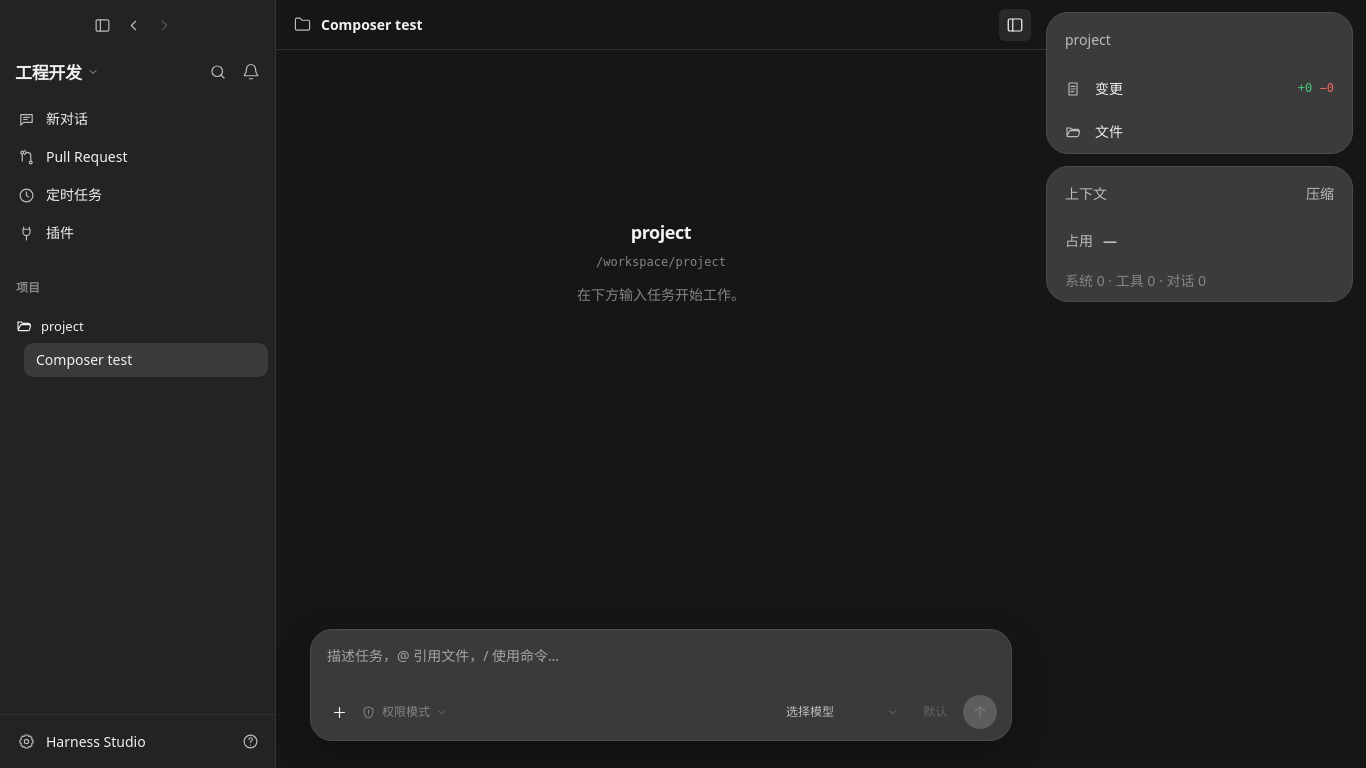
Scenario: structured composer entities › keeps the goal text and explains how to replace an existing goal
Type "/goal" into the text box named "描述编程任务" at (661, 667), box [325,643,997,691]
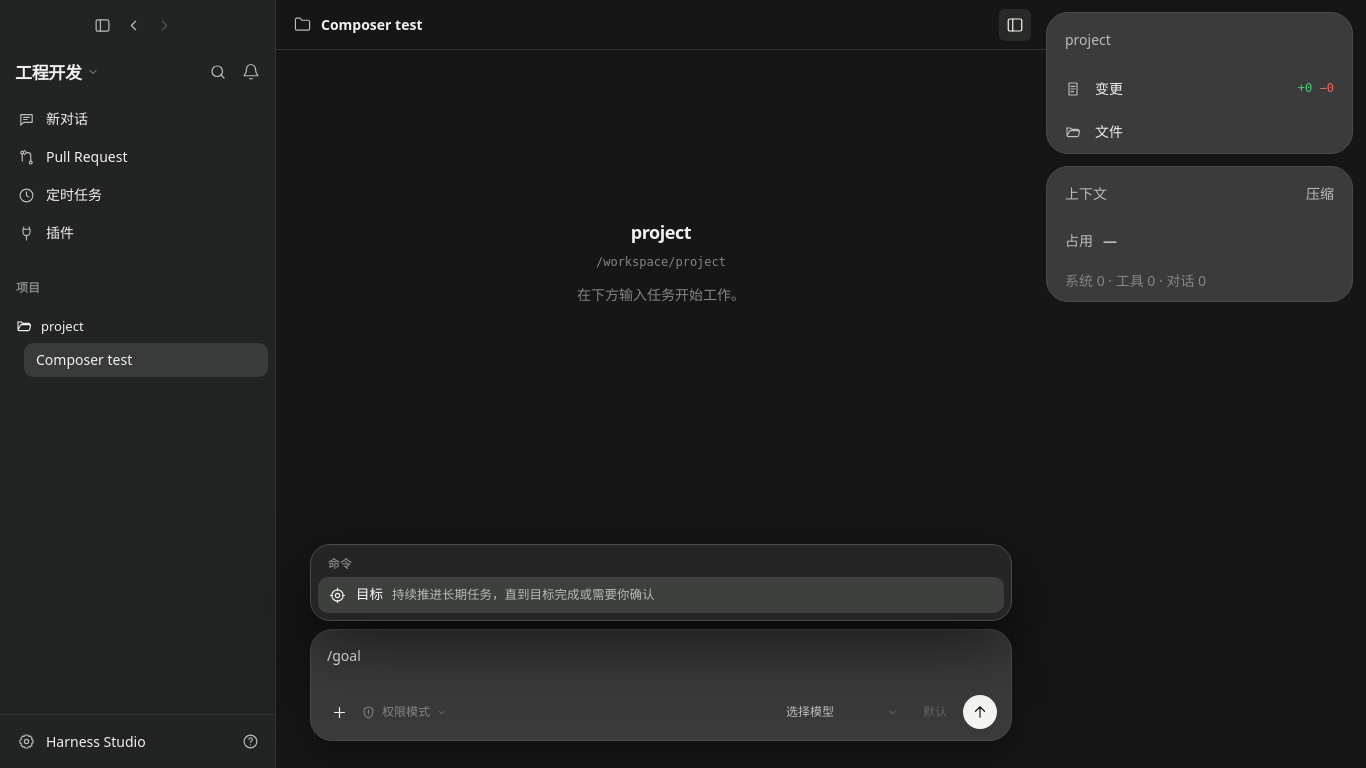
Click the option with aria-label "/goal" at (523, 595), box [318,577,1004,613]
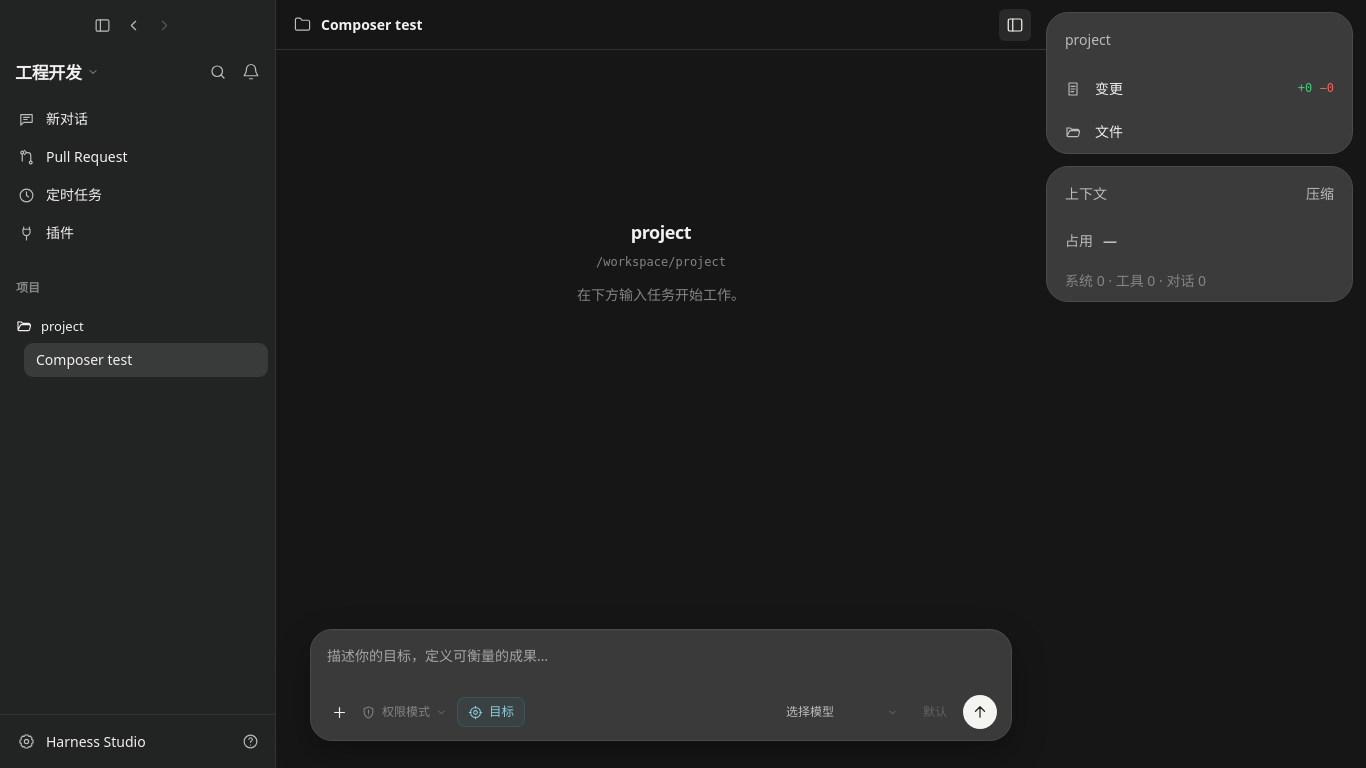
Type "完成发布准备" into the text box named "描述编程任务" at (661, 667), box [325,643,997,691]
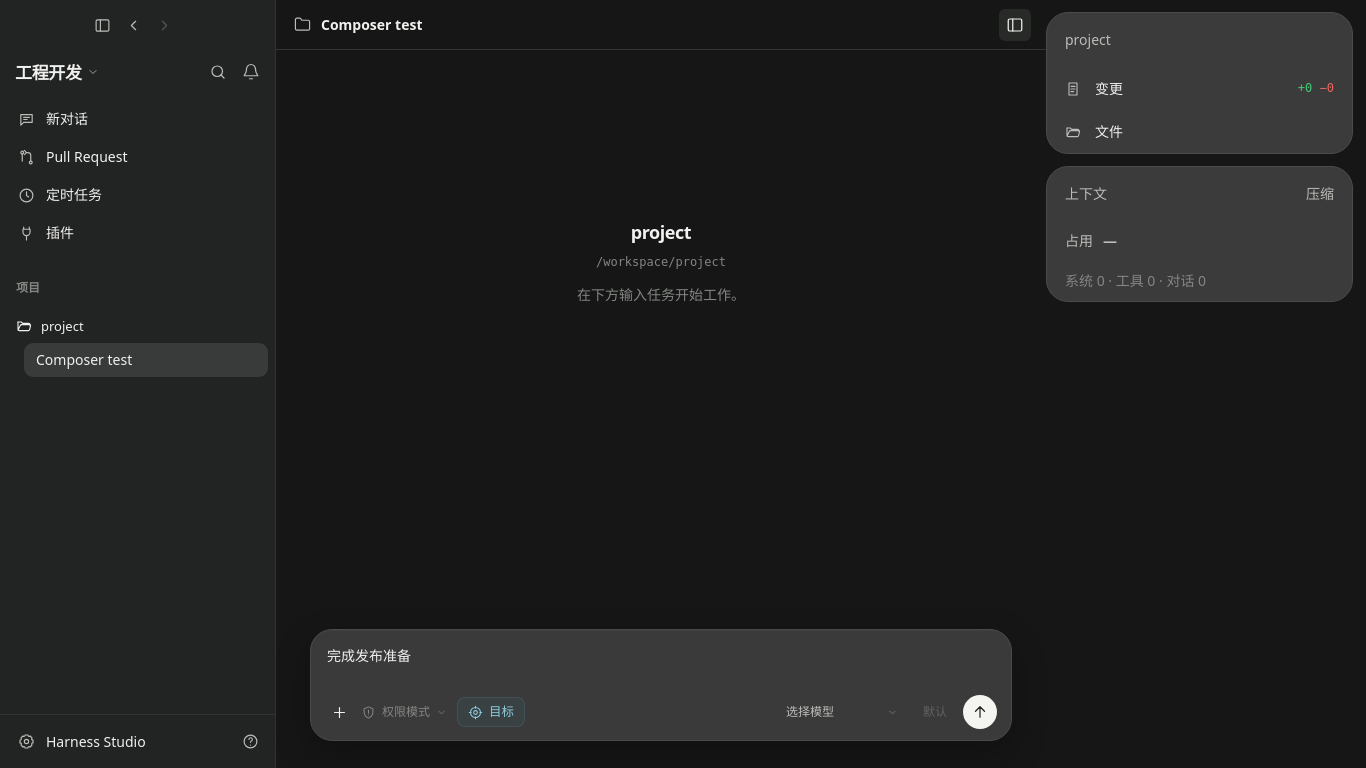
Click the button named "发送" at (980, 712), box [963,695,997,729]
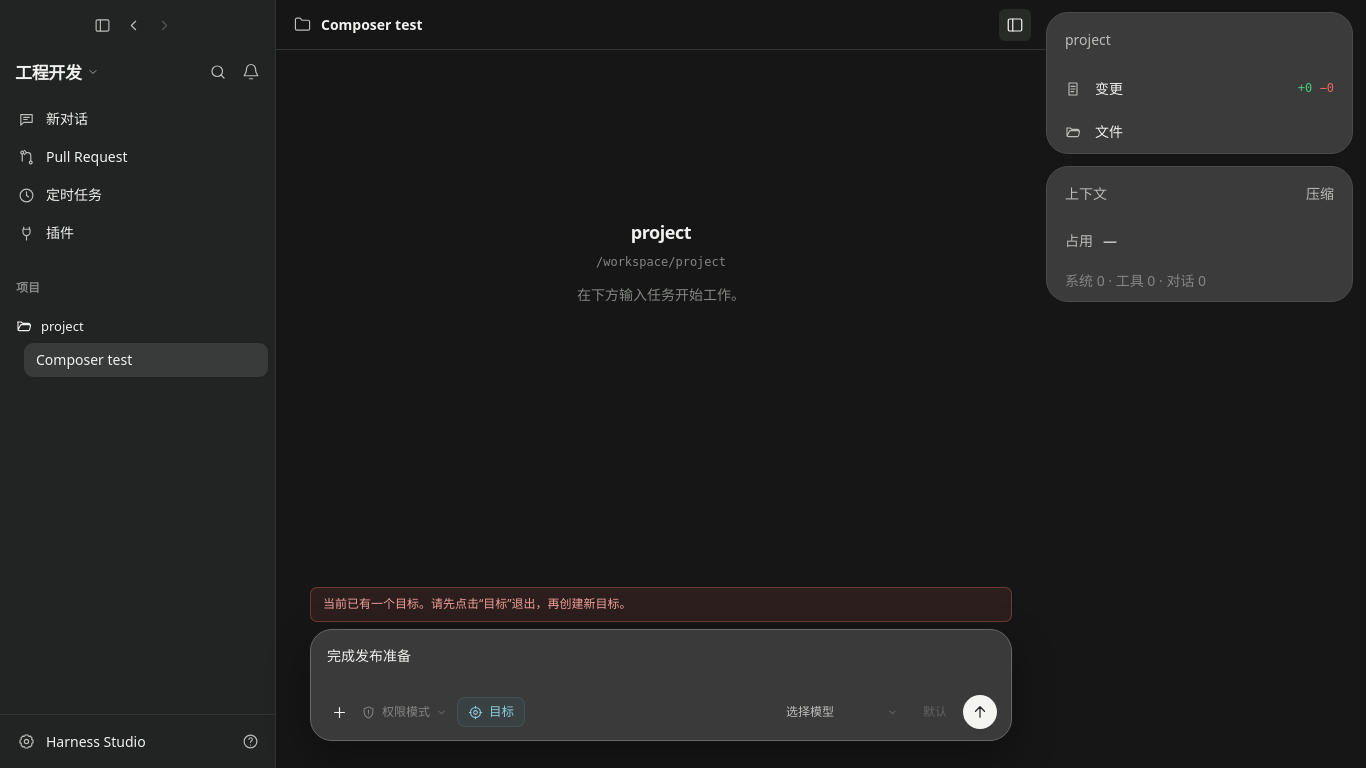
Check: the button with aria-label "退出目标模式" is shown, box [457,697,525,727]
Check: the text "当前已有一个目标。请先点击“目标”退出，再创建新目标。" is shown, box [310,587,1012,622]
